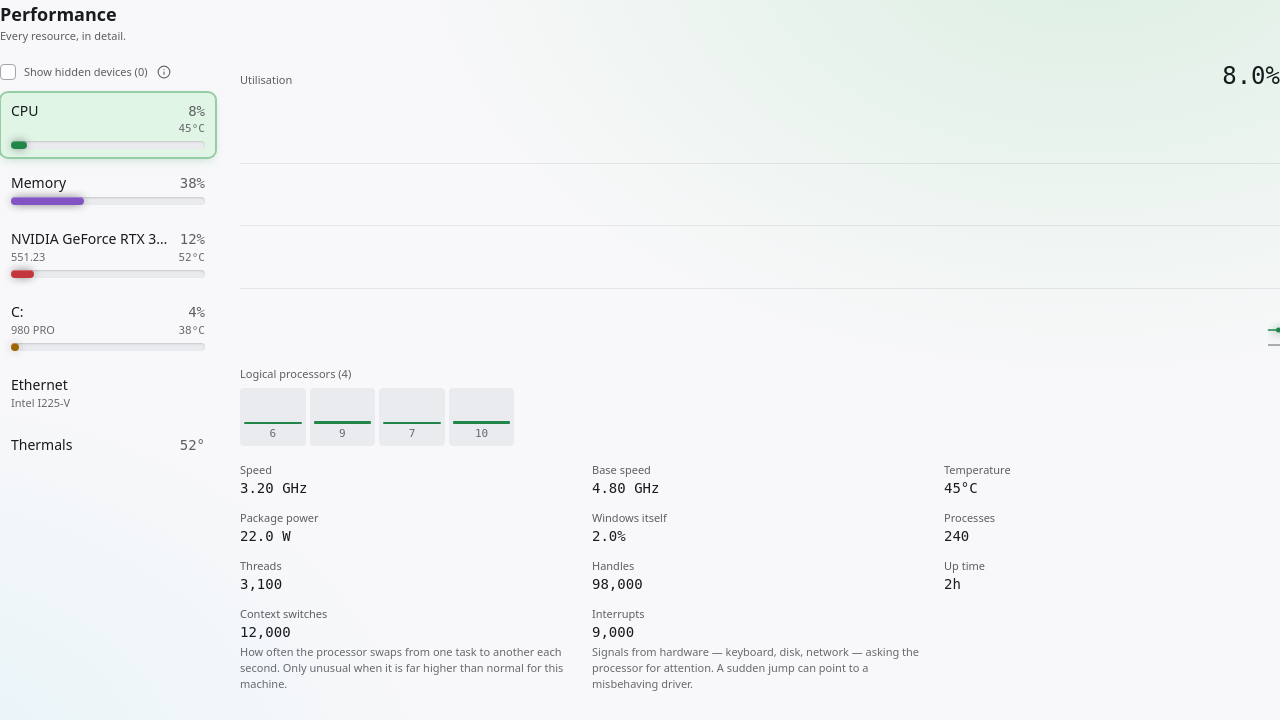
Test: PerformanceScreen › explains hidden devices in a popover behind the (i), not inline
What coordinates should you click on to do the following:
click the button named "About hidden devices"
I would click on:
 (164, 72)
Its box is [152, 60, 176, 84].
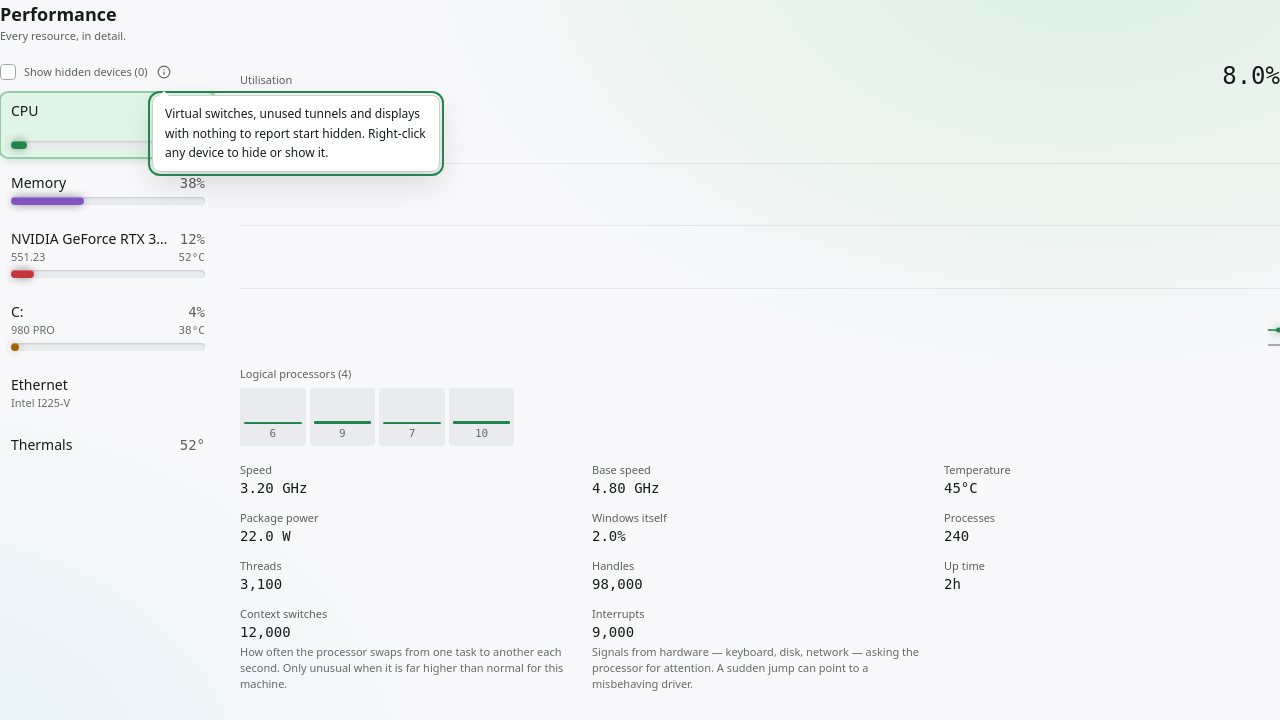
Expected: the text "Right-click any device to hide or show it" is shown, [165, 105, 426, 161]
